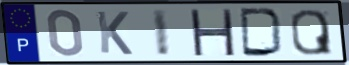0: (44, 8, 85, 59)
D: (238, 6, 287, 58)
H: (187, 8, 236, 57)
I: (150, 8, 173, 58)
K: (94, 10, 135, 57)
Q: (289, 8, 335, 56)
